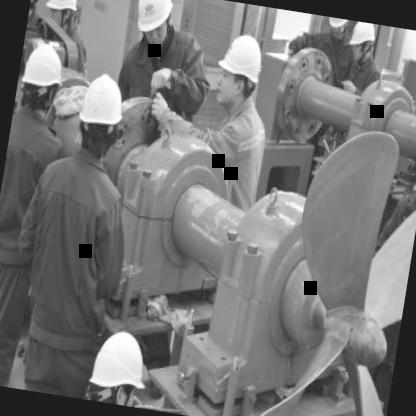helmet: (82, 314, 157, 408), (210, 25, 268, 114), (72, 69, 130, 157), (16, 42, 68, 114), (129, 0, 176, 55), (346, 21, 376, 66), (42, 0, 83, 30), (408, 111, 416, 202), (324, 16, 351, 38), (27, 0, 44, 19)
